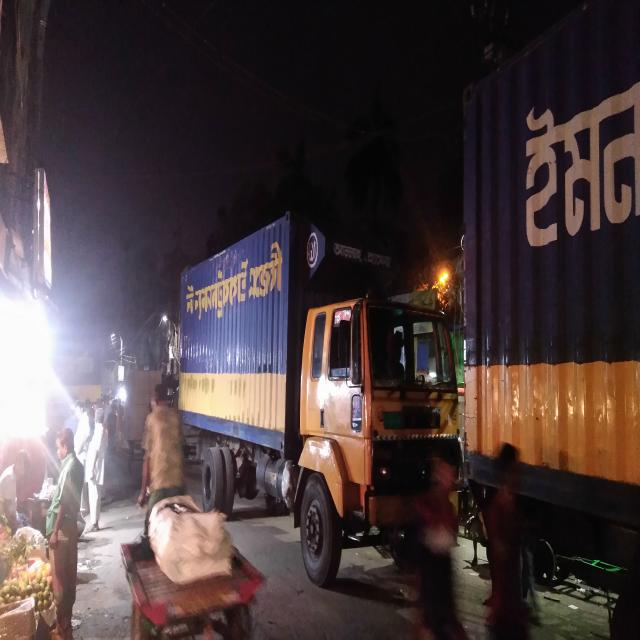truck: (456, 8, 640, 604), (172, 206, 464, 574)
